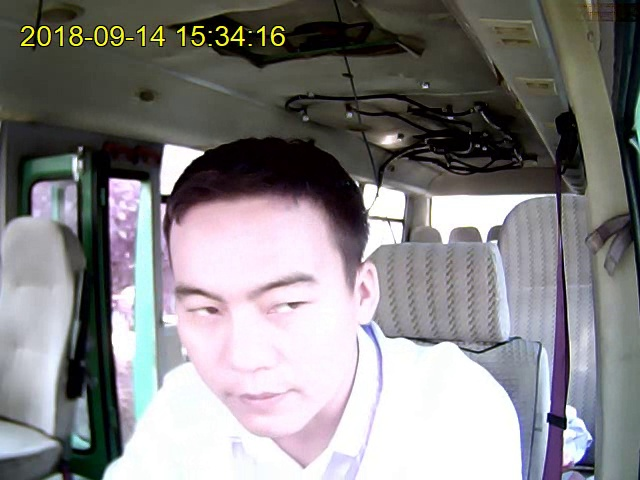closed_mouth: (225, 386, 299, 411)
open_eye: (267, 300, 311, 316), (182, 305, 222, 319)
